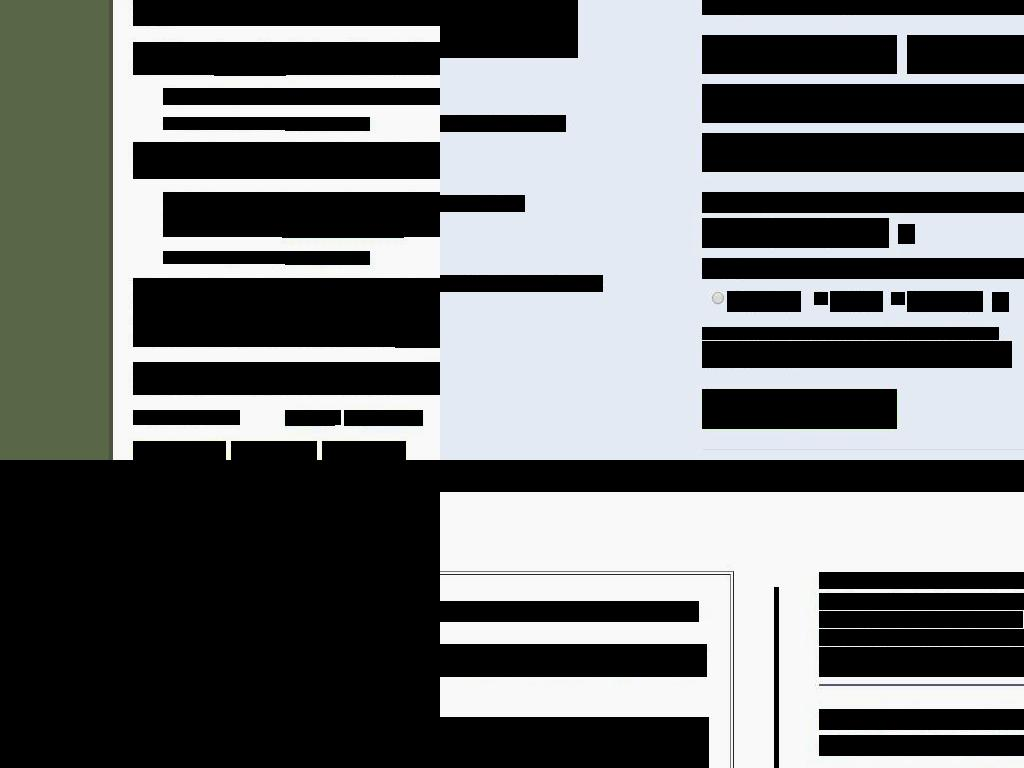button: (33, 594, 440, 768), (33, 460, 440, 595), (702, 389, 897, 429), (133, 0, 440, 9), (133, 441, 226, 460), (282, 224, 404, 238), (231, 441, 317, 460), (322, 441, 406, 460), (344, 410, 423, 426), (285, 117, 370, 131), (285, 251, 370, 265), (214, 60, 286, 76), (285, 410, 335, 426), (395, 332, 440, 348), (898, 224, 915, 244), (992, 292, 1009, 312), (428, 362, 440, 378)
field: (702, 84, 1024, 123), (702, 133, 1024, 172), (702, 35, 897, 74), (907, 35, 1024, 74), (797, 460, 958, 479), (702, 218, 772, 248), (827, 218, 889, 248), (771, 218, 828, 248), (961, 460, 1024, 476), (711, 292, 725, 305), (814, 292, 828, 305), (891, 292, 905, 305)
heading: (440, 0, 578, 58), (440, 601, 699, 622), (819, 709, 1024, 730), (819, 735, 1024, 756), (819, 572, 1024, 589), (133, 410, 240, 425)
image: (774, 587, 779, 768), (898, 224, 915, 241), (992, 292, 1009, 309), (237, 445, 254, 460)
label: (907, 291, 983, 312), (727, 291, 801, 312), (830, 291, 883, 312)
link: (819, 593, 1024, 610), (819, 629, 1024, 646), (819, 611, 1023, 628), (440, 662, 591, 677), (610, 662, 686, 677), (702, 341, 774, 354), (922, 327, 979, 340), (746, 460, 786, 477), (886, 327, 917, 340)
text: (83, 501, 412, 550), (133, 296, 440, 347), (163, 192, 440, 237), (133, 142, 440, 179), (133, 42, 440, 75), (133, 278, 440, 311), (133, 362, 440, 395), (440, 644, 707, 677), (702, 341, 1012, 368), (133, 0, 440, 26), (702, 192, 1024, 213), (702, 258, 1024, 279), (819, 647, 1024, 677), (702, 0, 1024, 15), (163, 88, 440, 105), (133, 362, 428, 377), (440, 275, 603, 292), (702, 327, 886, 340), (285, 60, 440, 75), (440, 115, 566, 132), (163, 117, 286, 130), (163, 251, 286, 264), (440, 195, 525, 212), (139, 446, 219, 459), (253, 446, 312, 459), (591, 662, 611, 677), (977, 327, 999, 340), (333, 410, 341, 425), (916, 327, 923, 340), (684, 662, 688, 677)
